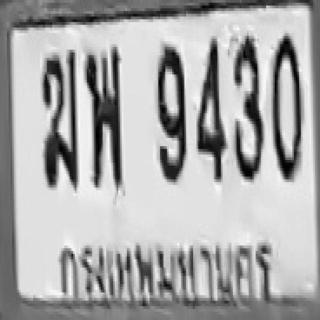A06: (40, 49, 78, 188)
A30: (84, 46, 123, 189)
N00: (270, 33, 302, 179)
N03: (232, 33, 263, 179)
N04: (196, 37, 225, 181)
N09: (155, 43, 186, 181)
P04: (55, 232, 276, 314)
